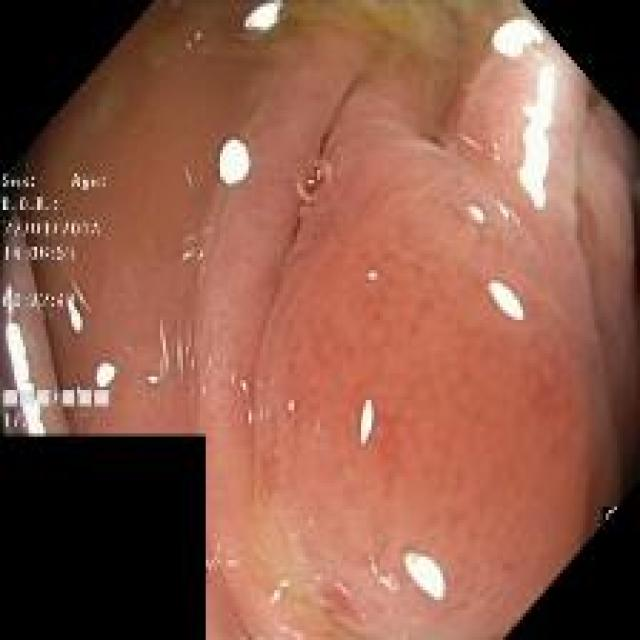Polyps: (250, 20, 638, 638)
